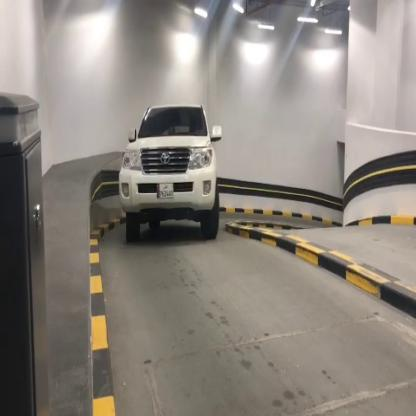np: (156, 181, 175, 200)
